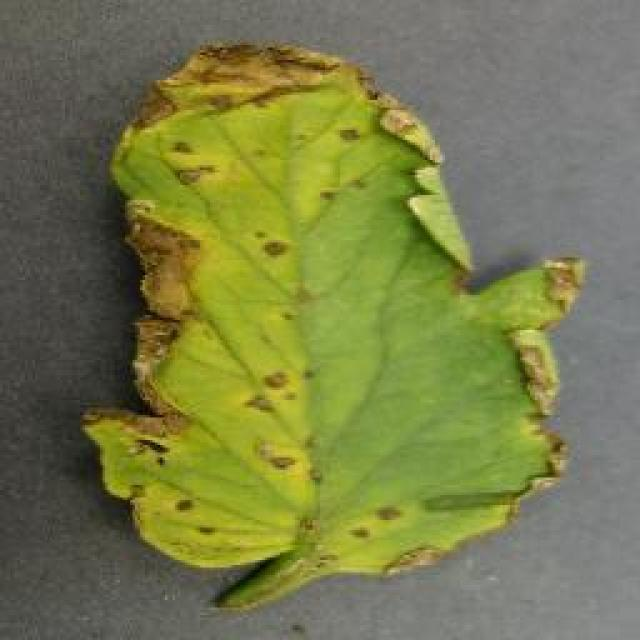Tomato bacterial spot leaf: (80, 40, 568, 598)
